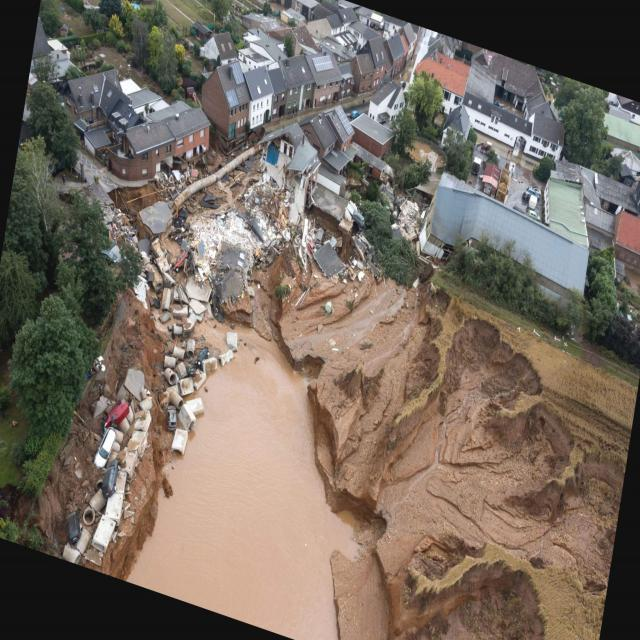flood: (115, 284, 386, 639)
